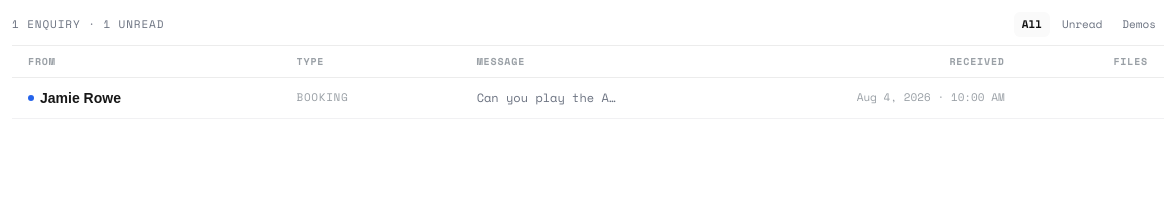
Test: EnquiryTable — rows › opens a row in place, marks it read, and shows the FULL message
Step 1. Click the text "Jamie Rowe" → [80, 98], box [40,88,121,108]
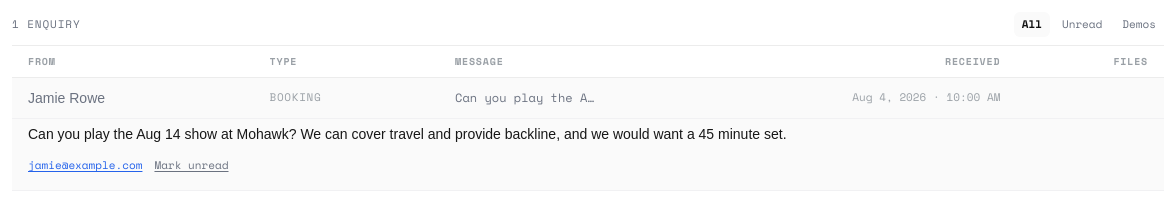
Expected: the text "Can you play the Aug 14 show at Mohawk? We can cover travel and provide backline, and we would want a 45 minute set." is shown, [28,126,786,142]
